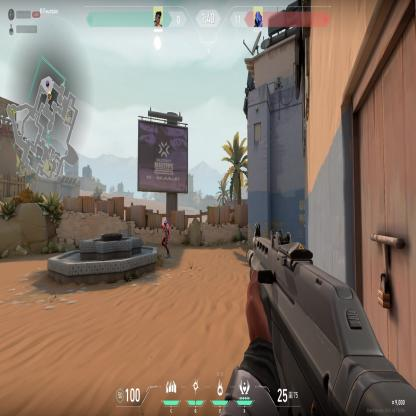enemy: (160, 218, 171, 259)
